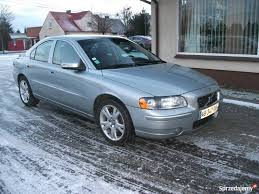car: (11, 33, 223, 142)
